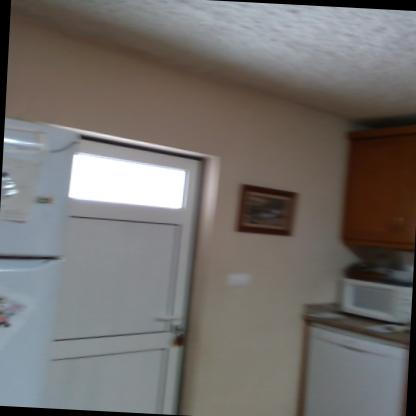closed: (48, 129, 230, 415)
